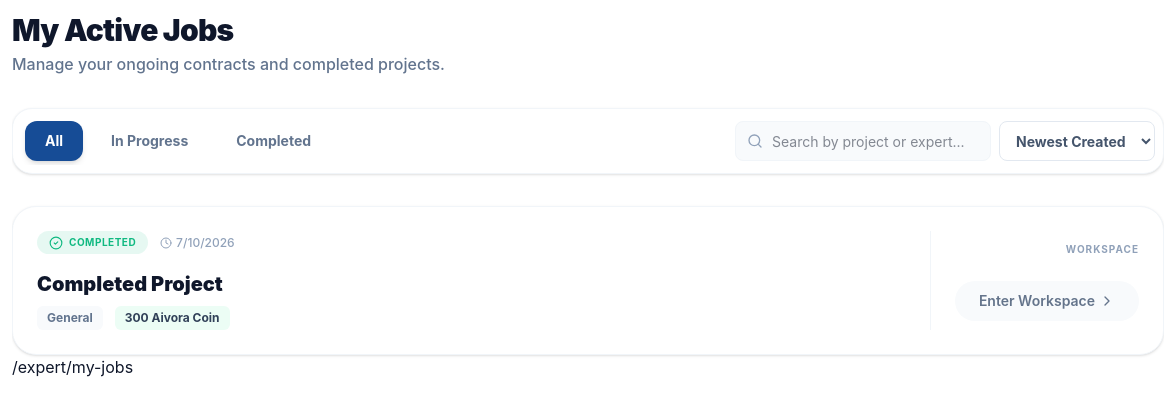
Test: ExpertMyJobsPage title navigation › navigates to the project workspace when clicking a completed project title
This screenshot has width=1164, height=394.
Click the link "Completed Project".
click(130, 284)  # box [37,270,223,298]
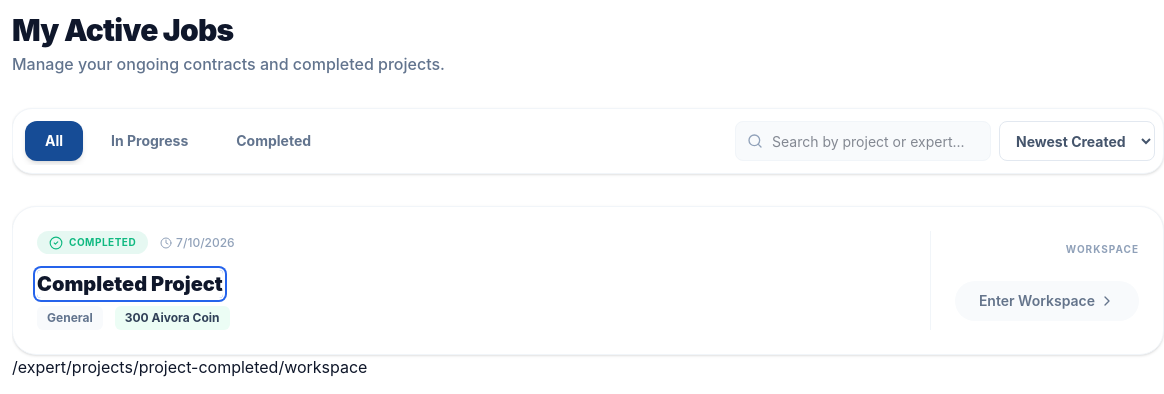
Expected: the text named "current path" reads "/expert/projects/project-completed/workspace", [12,357,368,377]
